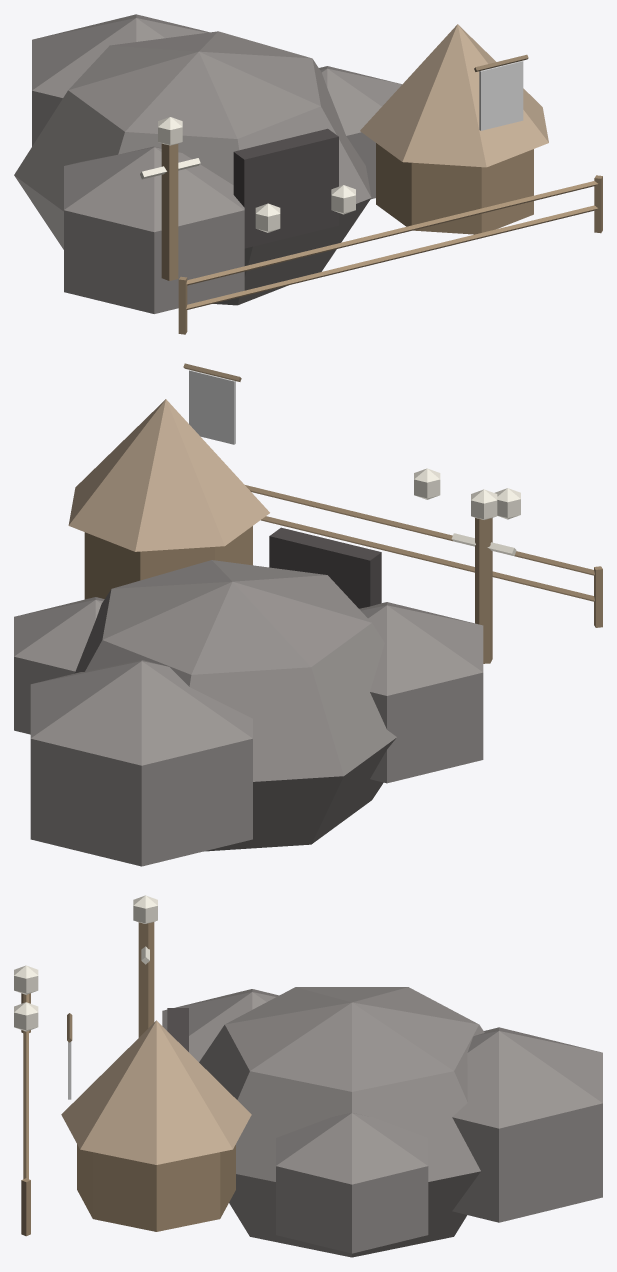
3 views of the same model, one above another, from view 1: azimuth 30°, elevation 25°; view 2: azimuth 150°, elevation 25°; view 3: azimuth 270°, elevation 25° (orthographic). The views are drawn at different scales.
Visible parts, largest first — view 1: body; view 2: body; view 3: body.
Part boxes in pixels (x1,y1,x2,y2): body: [14, 14, 602, 334]; body: [14, 363, 602, 866]; body: [14, 895, 602, 1257].
Size of the model in its own units: 9.12 by 5.98 by 10.85.
